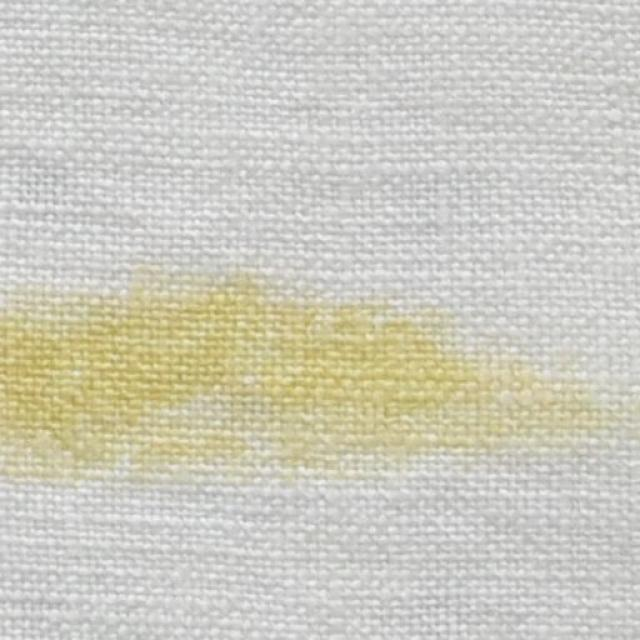Stain: (0, 272, 625, 482)
